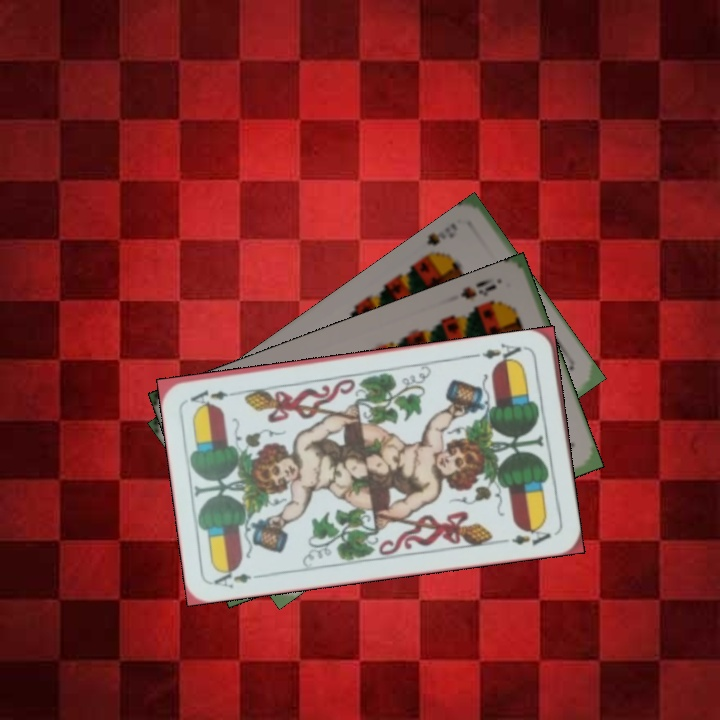EA: (471, 339, 530, 368), (210, 563, 268, 591)
S8: (457, 280, 499, 302)
S9: (418, 227, 450, 262)
